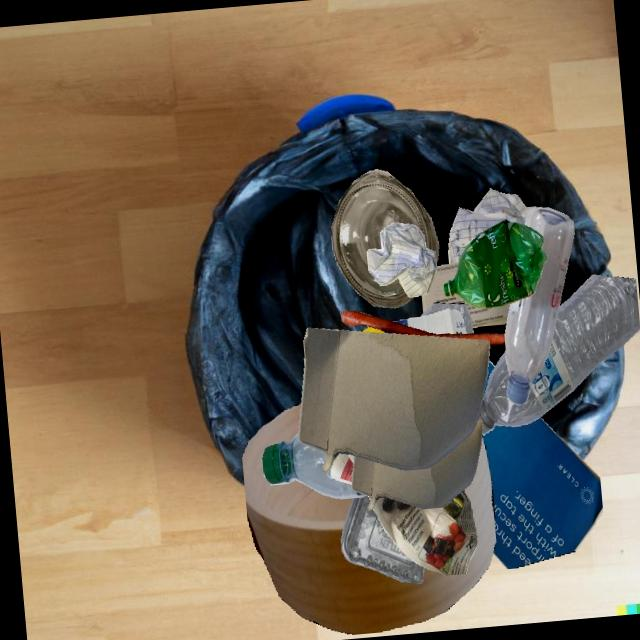biowaste: (341, 310, 505, 344), (362, 326, 384, 333)
cardboard: (297, 327, 489, 472), (368, 308, 478, 418), (351, 419, 482, 510)
combustible waste: (242, 402, 496, 634)
glass: (331, 169, 439, 308)
paper: (482, 416, 603, 569), (373, 499, 477, 576), (448, 188, 535, 263), (421, 261, 510, 327), (367, 222, 436, 297)
plastic: (479, 274, 640, 434), (504, 207, 574, 405), (442, 219, 547, 308), (341, 495, 424, 583), (261, 432, 368, 498), (420, 302, 473, 333)
